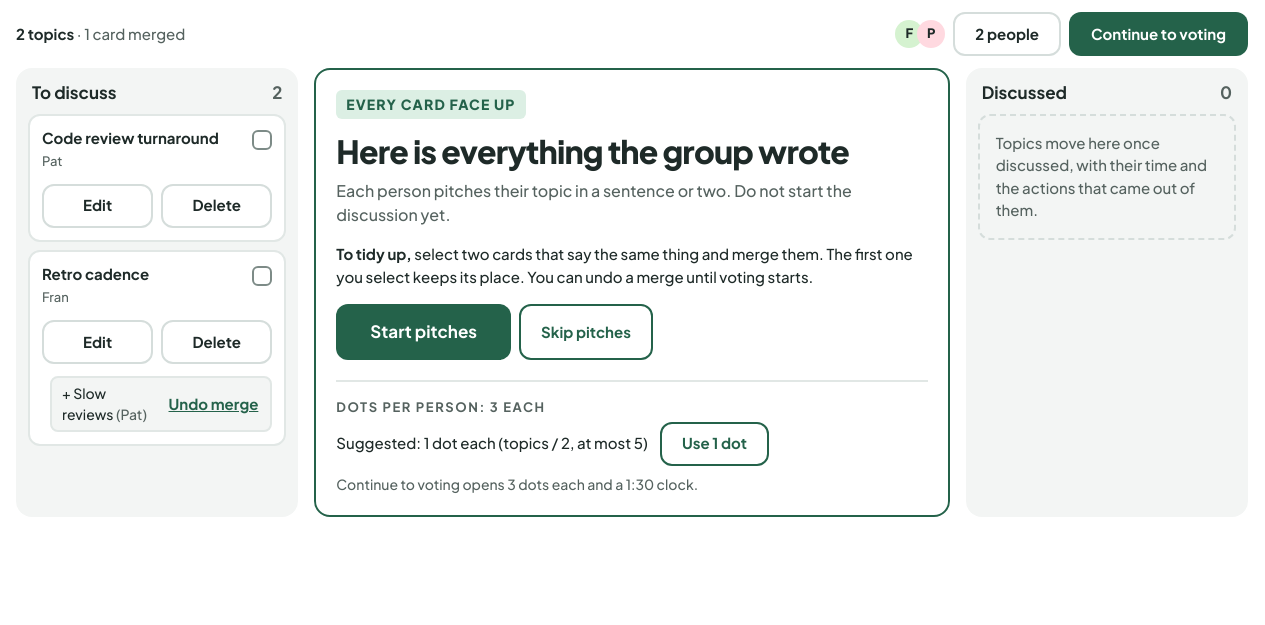
Test: Clarify as the board › says on the merge stage which cards already carry merged cards
The image size is (1265, 625).
Click the button "Code review turnaround Pat": (157, 150) [30,116,284,184]
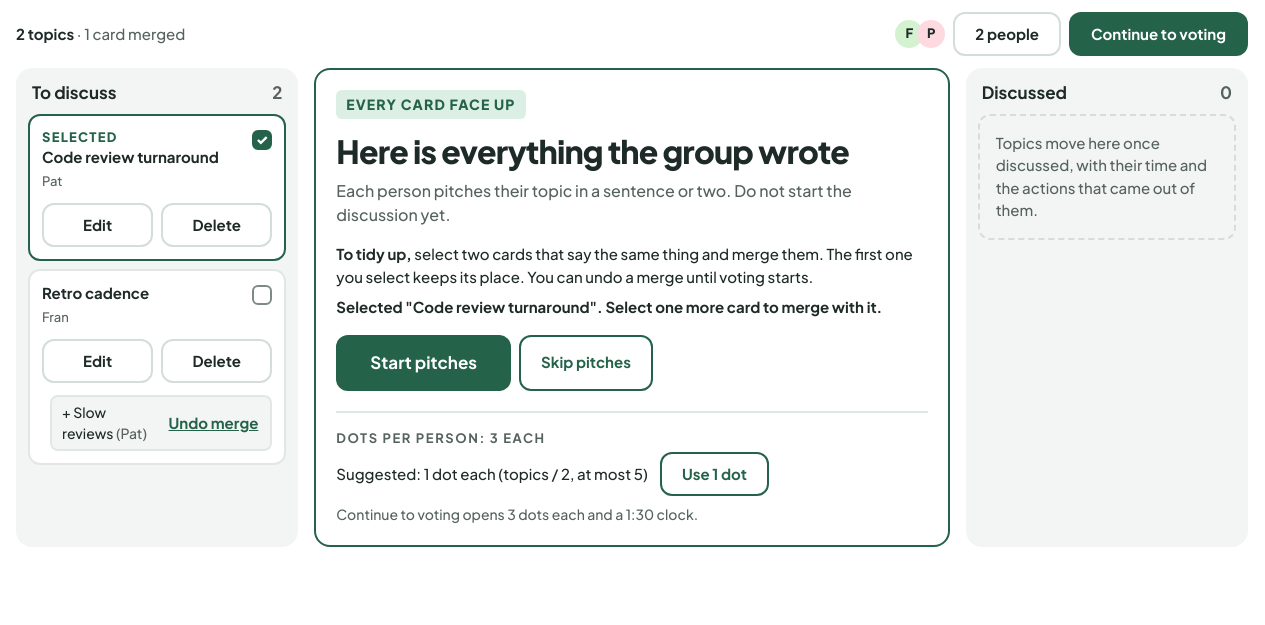
Click the button "Retro cadence Fran": (157, 305) [30,271,284,339]
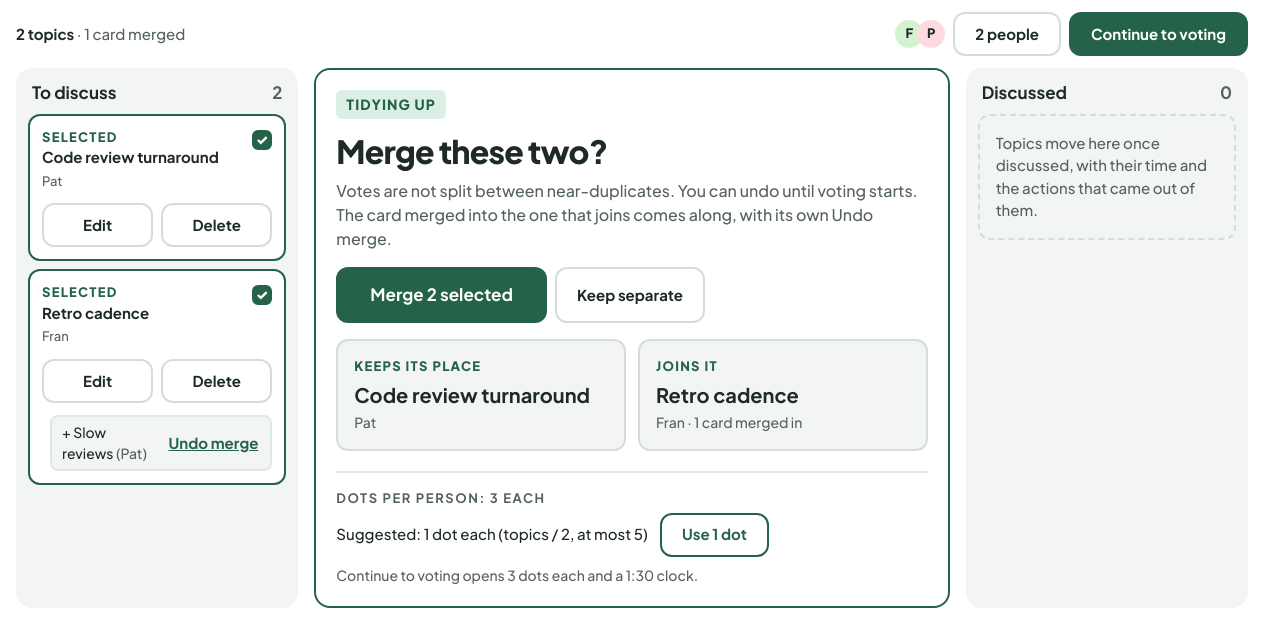
Result: the element named "Clarify" shows "The card merged into the one that joins comes along, with its own Undo merge." at [336,204,873,249]
